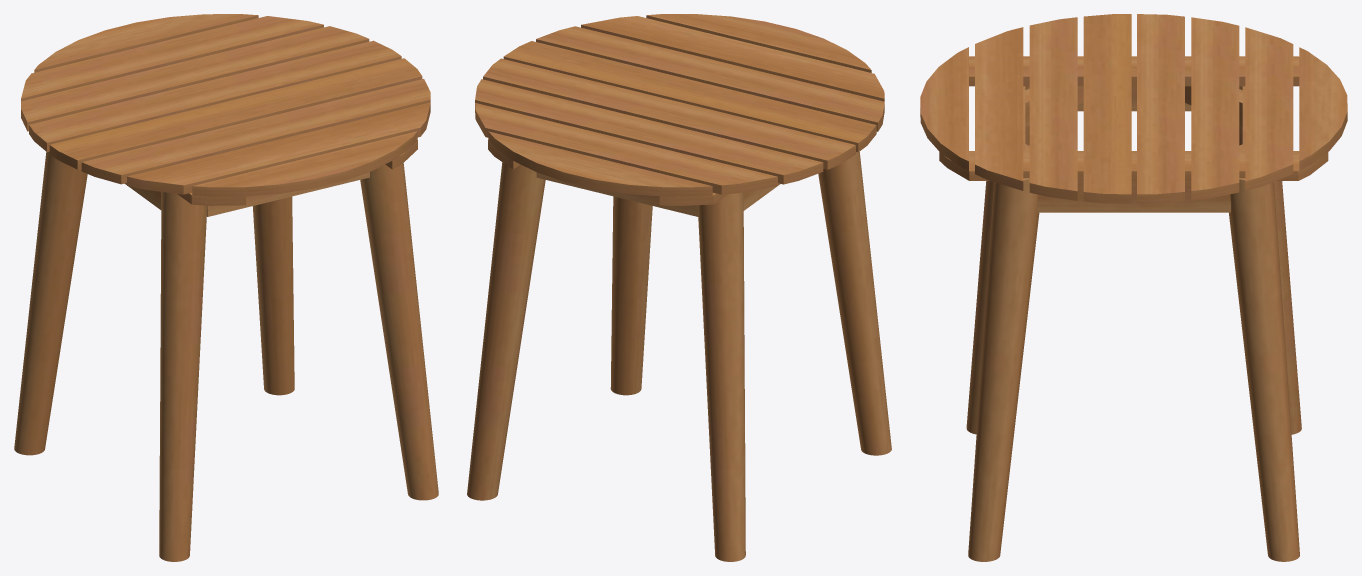
File: luna-sidetable_nocolor.fbx
3 views of the same model, side by side, from view 1: azimuth 30°, elevation 25°; view 2: azimuth 150°, elevation 25°; view 3: azimuth 270°, elevation 25° (orthographic). The views are drawn at different scales.
Parts seen in each view (by area): view 1: luna-sidetable; view 2: luna-sidetable; view 3: luna-sidetable.
Part boxes in pixels (x1,y1,x2,y2): luna-sidetable: (14, 14, 438, 561); luna-sidetable: (467, 14, 891, 561); luna-sidetable: (920, 14, 1347, 561).
Bounding box in the file's own units: 40 × 40 × 40.04.
2 materials, 2 textured.
